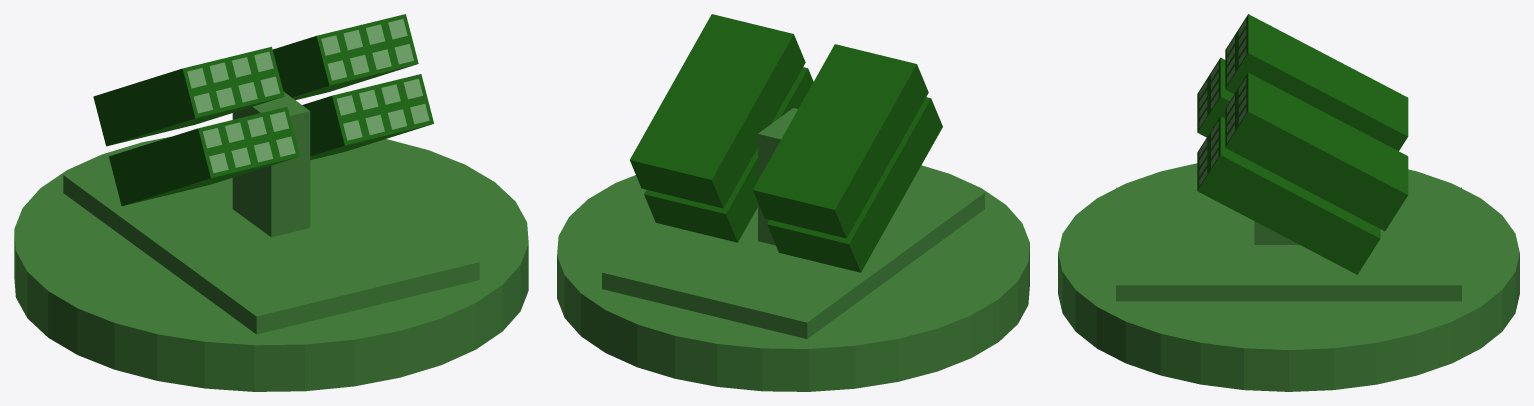
File: Missile.gltf
3 renders of one model, left to right at view 1: azimuth 30°, elevation 25°; view 2: azimuth 150°, elevation 25°; view 3: azimuth 270°, elevation 25°, orthographic. The views are drawn at different scales.
Parts seen in each view (by area): view 1: 立方体.002; view 2: 立方体.002; view 3: 立方体.002.
Boxes of the visible parts, box(x1,y1,x2,y2) form: 立方体.002: box(14, 14, 528, 391); 立方体.002: box(557, 14, 1029, 391); 立方体.002: box(1058, 14, 1519, 391).
Bounding box in the file's own units: 10 × 5.53 × 10.
Materials: 1 (1 with a texture image).
